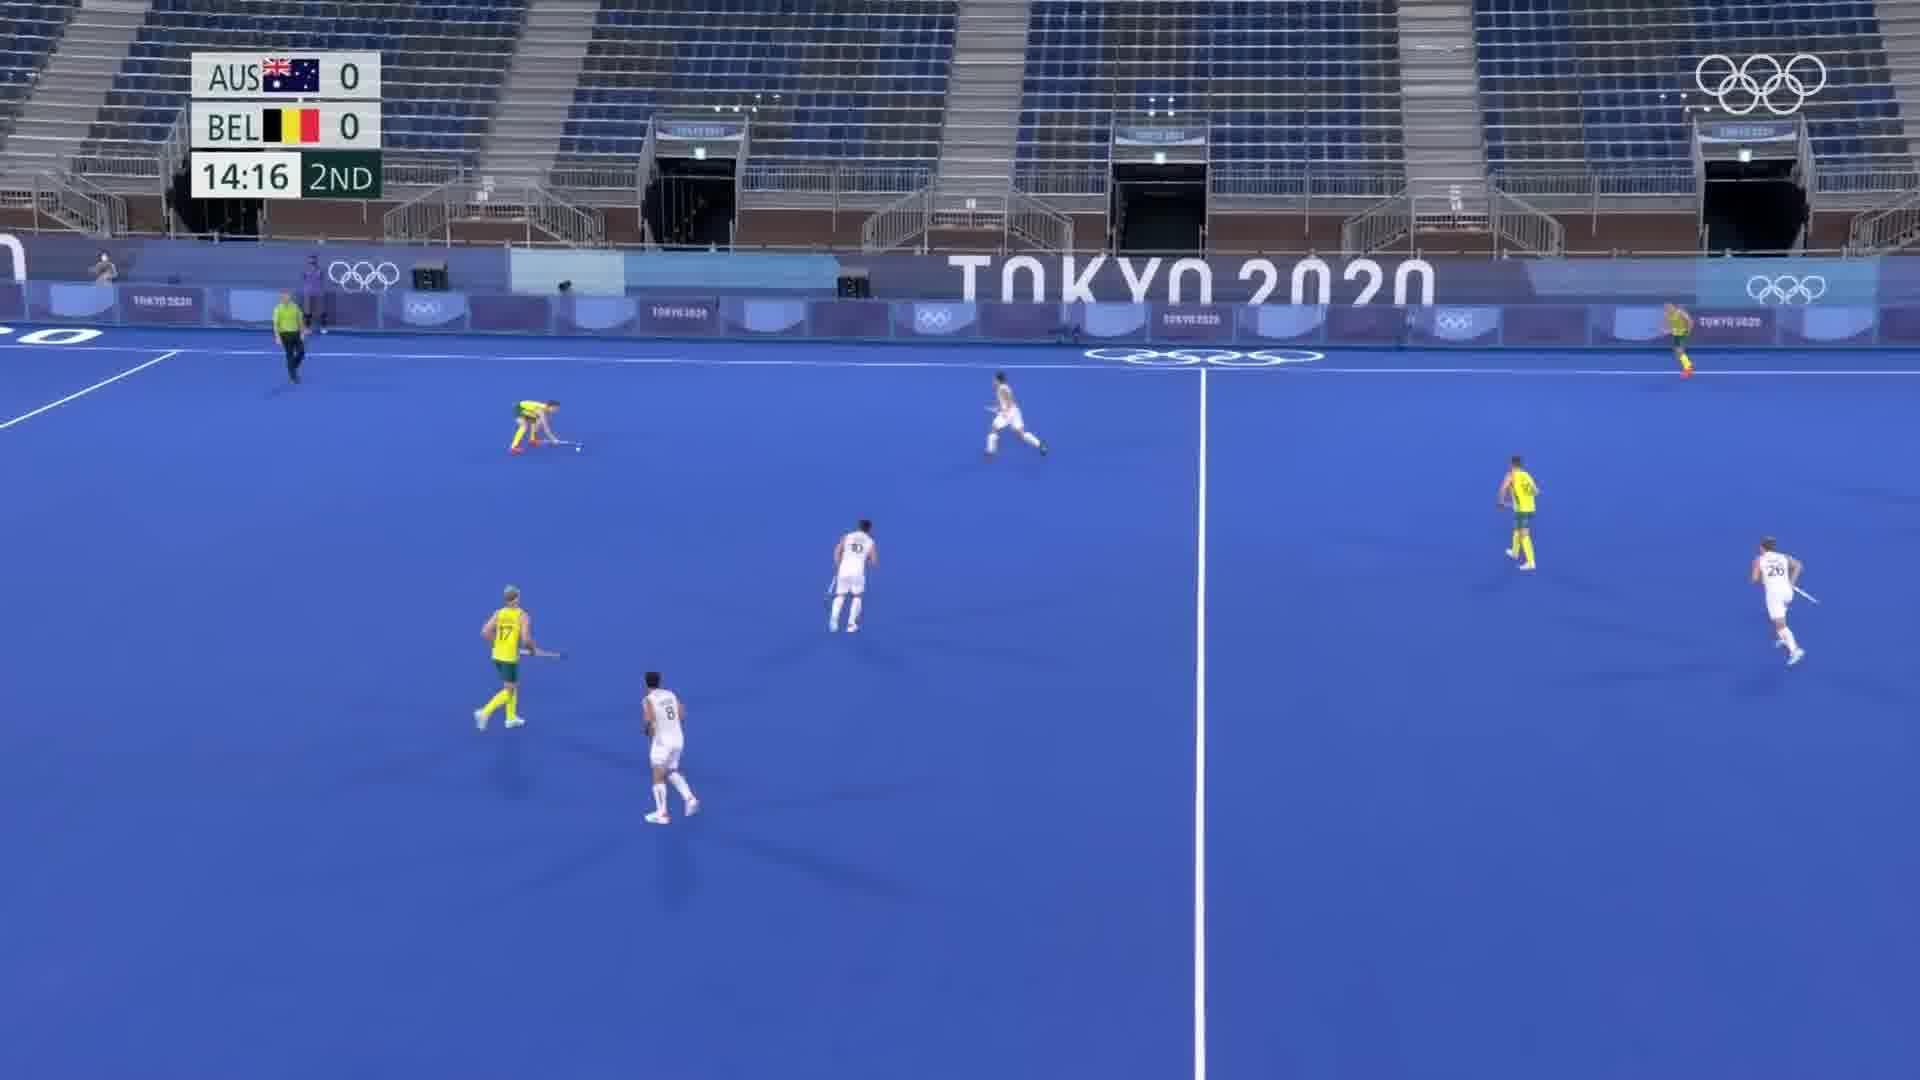ball: (574, 444, 584, 456)
